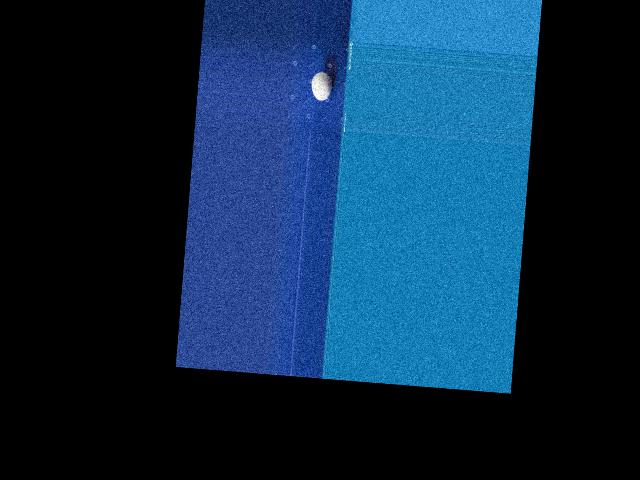egg: (310, 71, 333, 101)
